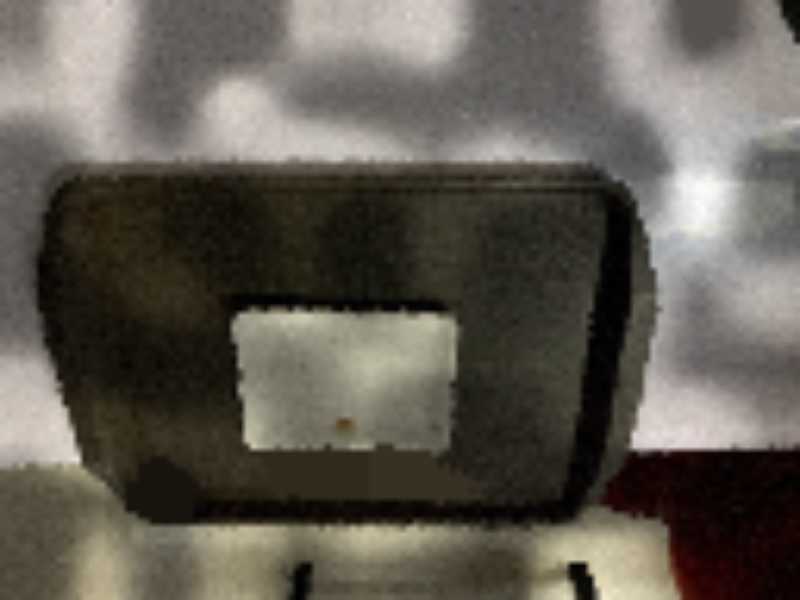dish4: (226, 300, 468, 459)
